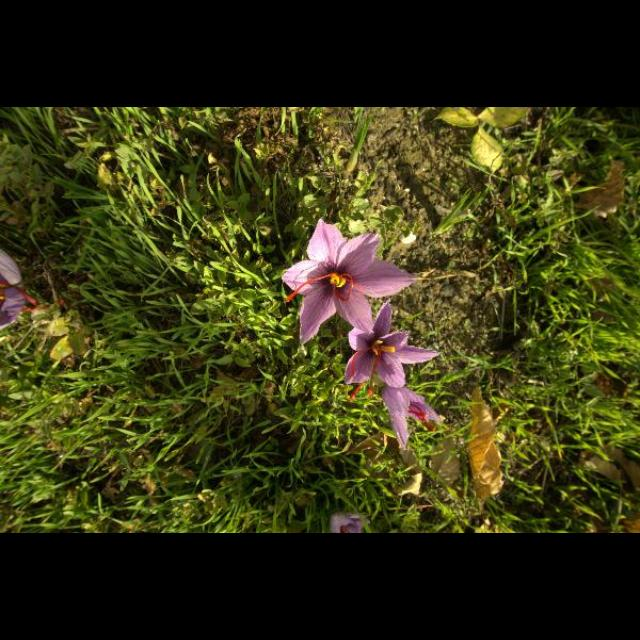flower: (282, 220, 416, 346), (342, 300, 440, 400), (382, 387, 442, 451), (331, 513, 372, 533)
overlap: (0, 250, 64, 330)
